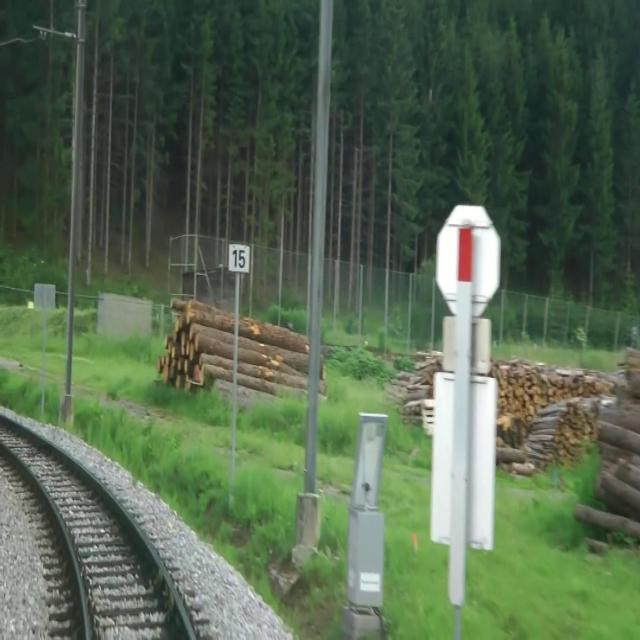rail-track: (0, 418, 190, 639)
